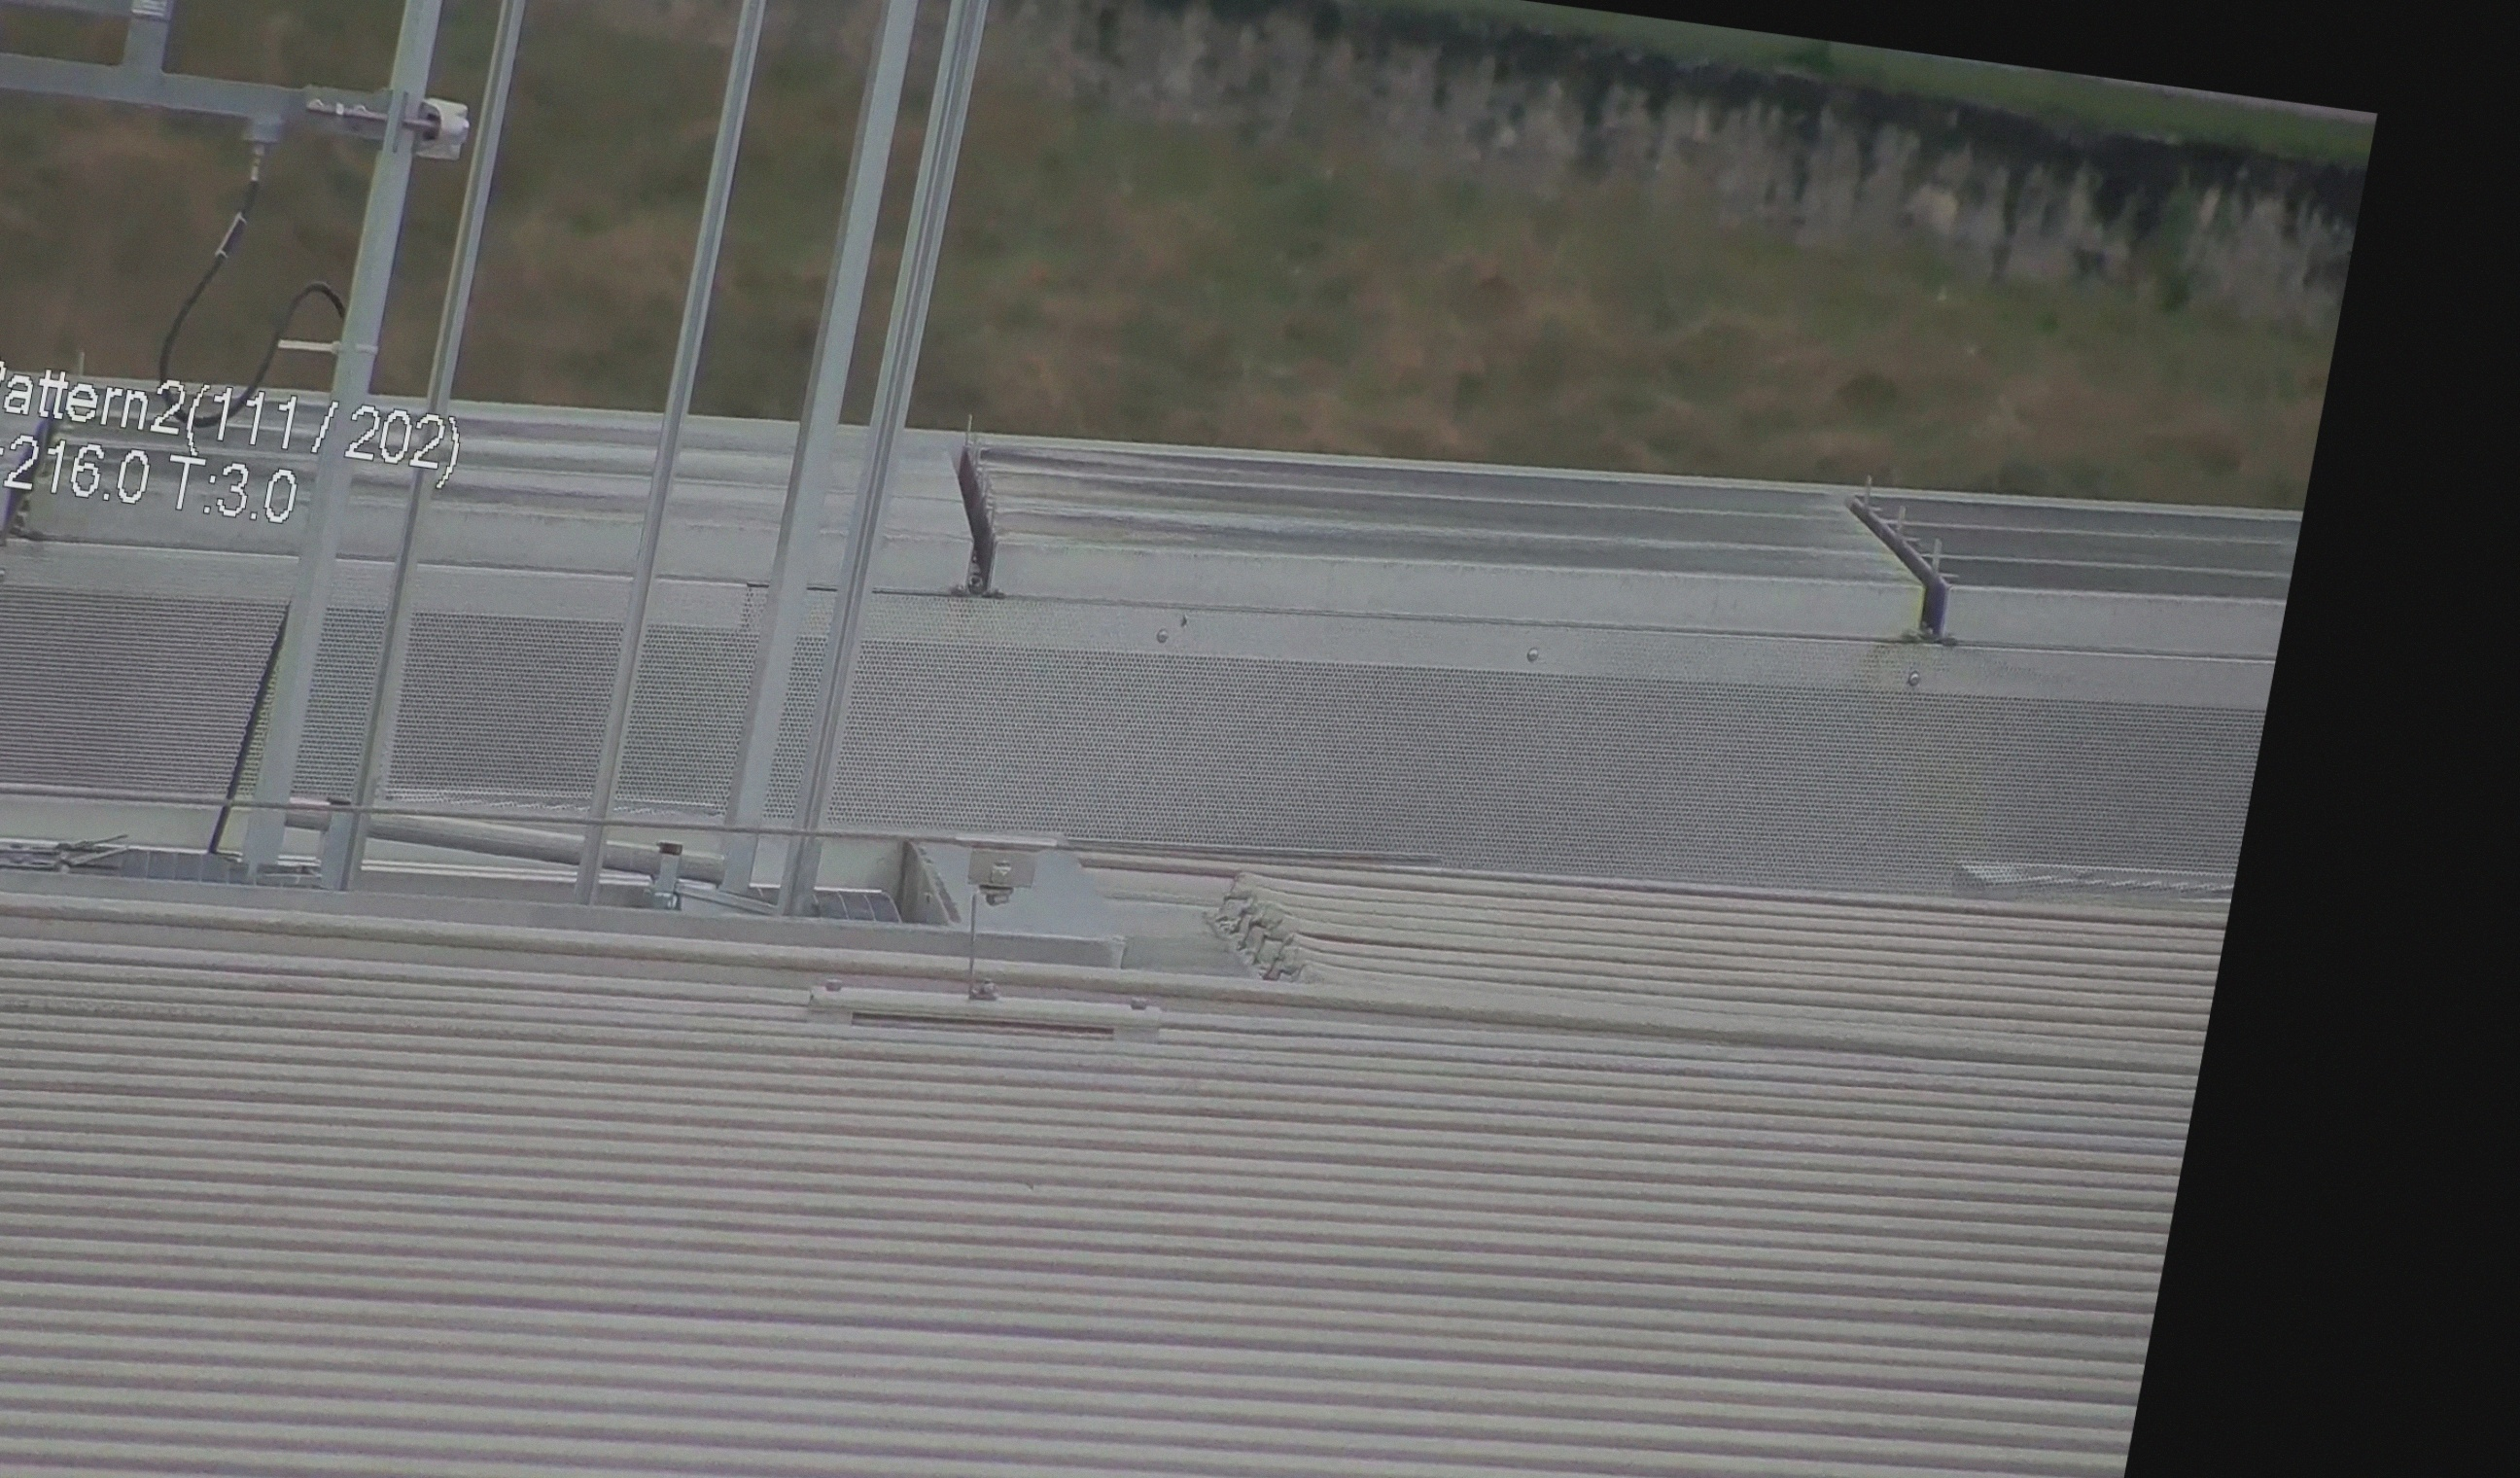Other: (916, 419, 1029, 602)
